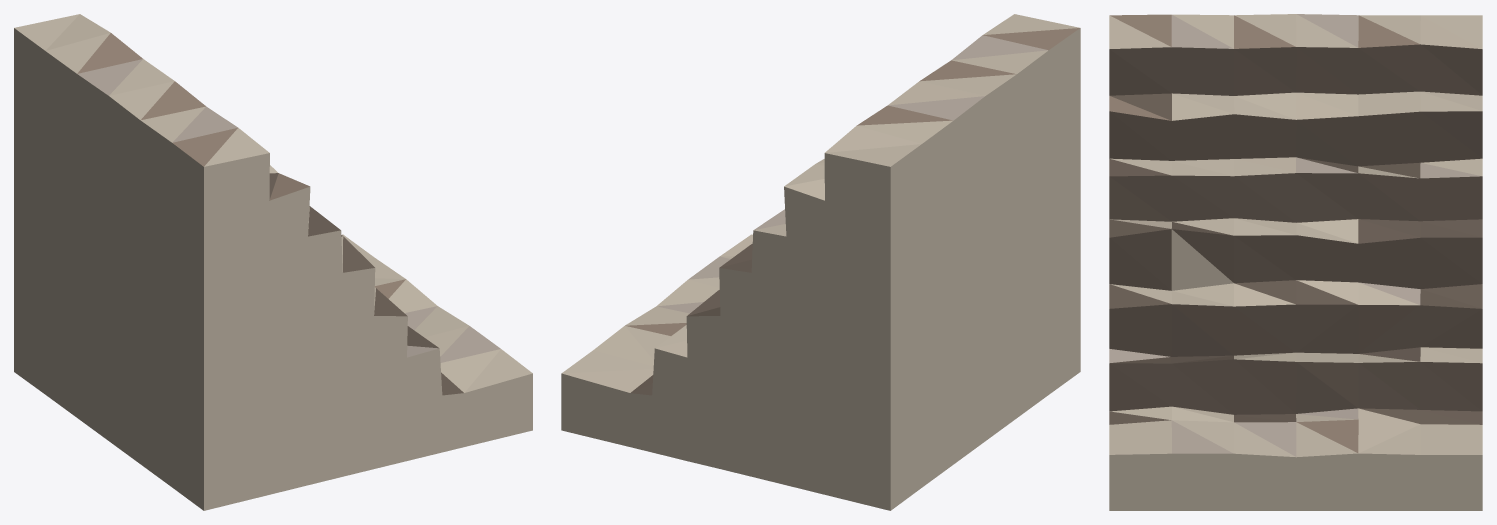
File: RG-Dungeon_Corner-Stairs-03.fbx
3 views of the same model, side by side, from view 1: azimuth 30°, elevation 25°; view 2: azimuth 150°, elevation 25°; view 3: azimuth 270°, elevation 25° (orthographic).
Parts seen in each view (by area): view 1: RG-Dungeon_Corner-Stairs-03; view 2: RG-Dungeon_Corner-Stairs-03; view 3: RG-Dungeon_Corner-Stairs-03.
Part boxes in pixels (x1,y1,x2,y2): RG-Dungeon_Corner-Stairs-03: (14, 14, 532, 510); RG-Dungeon_Corner-Stairs-03: (561, 14, 1080, 510); RG-Dungeon_Corner-Stairs-03: (1109, 14, 1482, 510).
Size of the model in its own units: 10 by 10.06 by 10.
